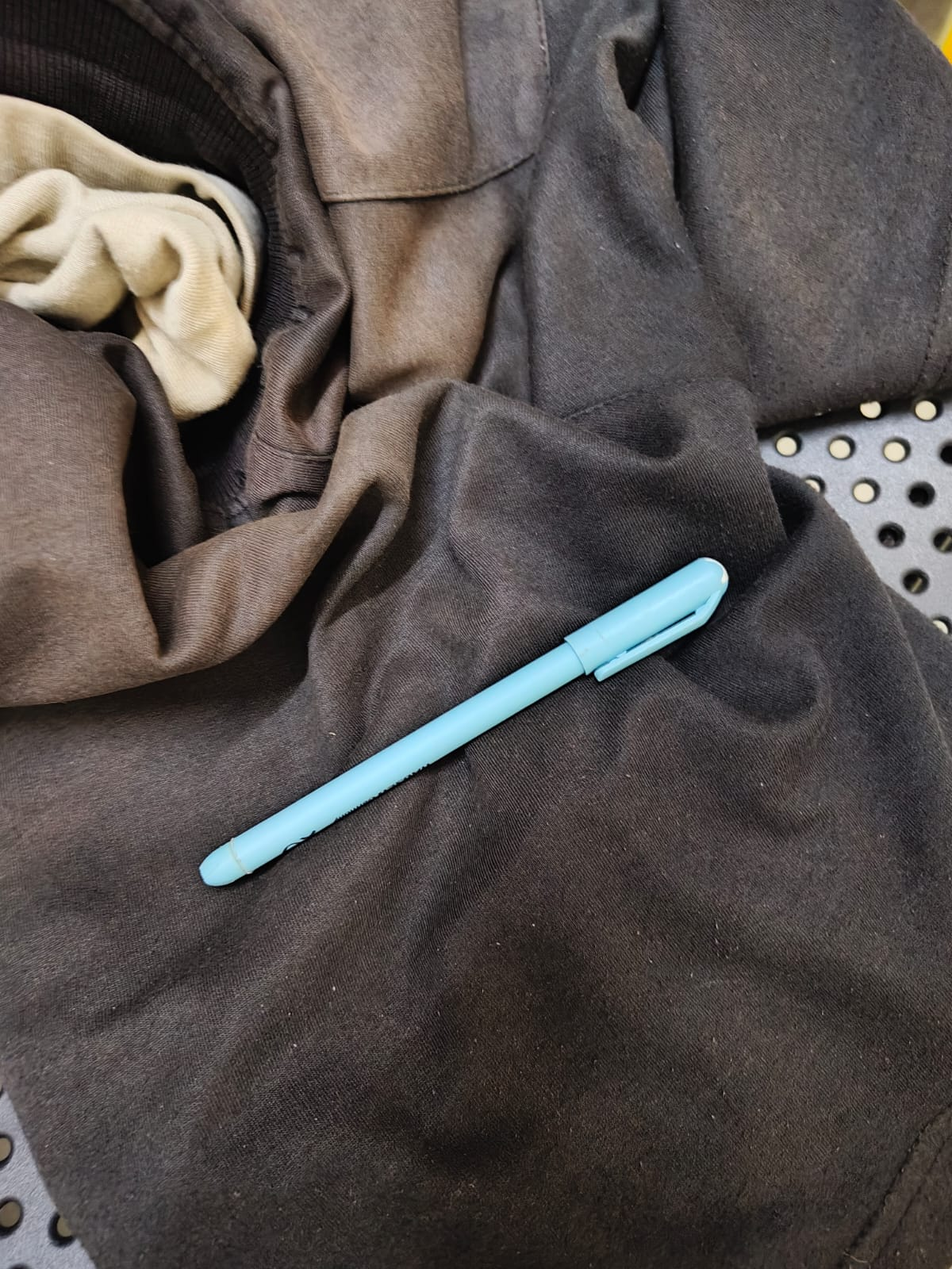pen: (176, 550, 757, 909)
